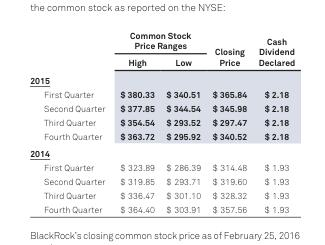table: (29, 29, 294, 214)
table column: (29, 29, 111, 214), (111, 29, 159, 214), (205, 29, 252, 214), (159, 29, 205, 214), (252, 29, 294, 214)
table column header: (29, 29, 294, 71)
table projected row header: (29, 71, 294, 87), (29, 144, 294, 160)
table row: (29, 29, 294, 53), (29, 53, 294, 71), (29, 71, 294, 87), (29, 144, 294, 160), (29, 129, 294, 144), (29, 87, 294, 101), (29, 101, 294, 115), (29, 115, 294, 129), (29, 160, 294, 174), (29, 174, 294, 188), (29, 188, 294, 202), (29, 202, 294, 214)
table spanning cell: (111, 29, 205, 53), (205, 29, 252, 71), (252, 29, 294, 71)
